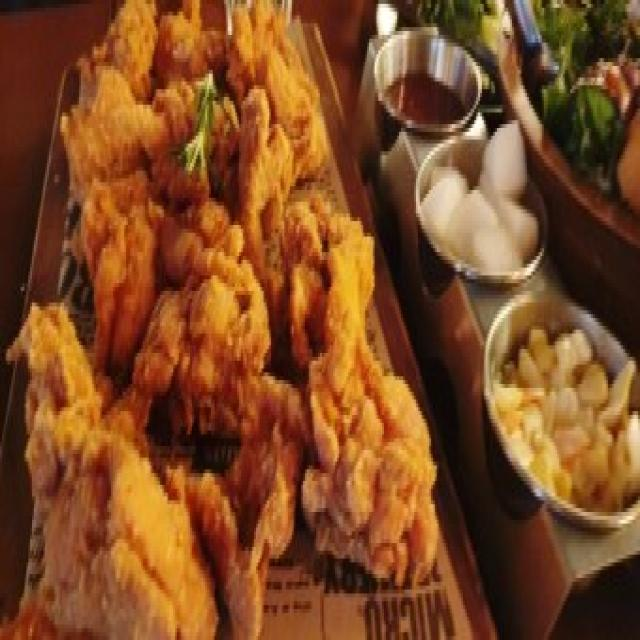Frango: (22, 0, 433, 640)
